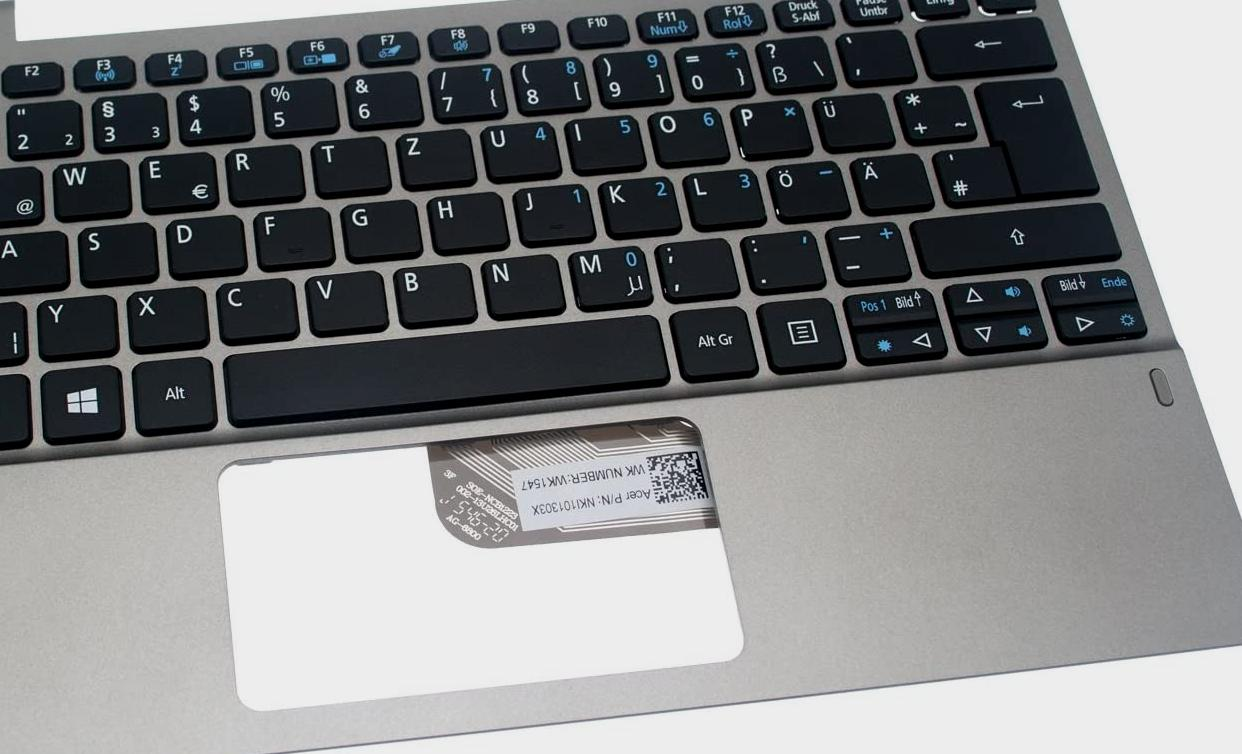0: (676, 41, 753, 98)
1: (1, 106, 40, 165)
2: (4, 100, 84, 157)
3: (88, 92, 170, 150)
4: (175, 84, 253, 142)
5: (260, 77, 339, 134)
6: (344, 69, 423, 127)
7: (429, 63, 506, 120)
8: (512, 55, 590, 113)
9: (593, 48, 670, 106)
a: (1, 229, 70, 292)
accent: (836, 28, 915, 84)
ae: (848, 152, 934, 213)
alt-left: (130, 356, 216, 431)
altgr-right: (669, 303, 758, 377)
b: (391, 261, 477, 325)
c: (214, 277, 300, 341)
caret: (1, 113, 30, 170)
comma: (653, 236, 738, 300)
d: (163, 214, 247, 277)
del: (916, 18, 1054, 76)
e: (138, 150, 218, 212)
enter: (975, 74, 1101, 196)
f: (252, 205, 334, 270)
g: (338, 198, 423, 260)
h: (426, 191, 510, 253)
hash: (932, 145, 1015, 205)
i: (565, 113, 643, 172)
j: (513, 182, 594, 245)
k: (598, 175, 681, 237)
keyboard: (1, 1, 1183, 481)
l: (683, 167, 765, 228)
less: (1, 299, 41, 366)
m: (567, 245, 651, 308)
minus: (823, 220, 912, 284)
n: (481, 253, 564, 318)
o: (647, 106, 728, 165)
oe: (766, 159, 851, 220)
p: (729, 98, 811, 157)
plus: (892, 82, 976, 142)
point: (739, 228, 827, 292)
q: (1, 165, 45, 227)
r: (224, 144, 304, 202)
s: (76, 222, 159, 284)
shift-left: (1, 309, 47, 374)
shift-lock: (1, 237, 63, 303)
shift-right: (906, 202, 1122, 273)
space: (222, 316, 669, 419)
ss: (755, 34, 834, 91)
strg-left: (1, 380, 44, 458)
t: (310, 135, 389, 196)
tab: (1, 173, 52, 236)
u: (479, 120, 560, 180)
ue: (811, 92, 895, 149)
v: (304, 269, 389, 334)
w: (51, 158, 132, 219)
x: (124, 285, 209, 350)
y: (35, 293, 119, 359)
z: (395, 127, 475, 188)
